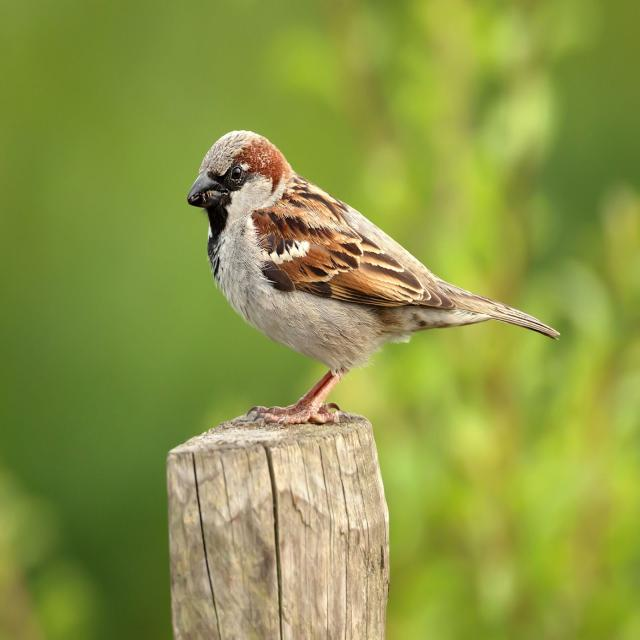Sparrow: (180, 127, 557, 428)
